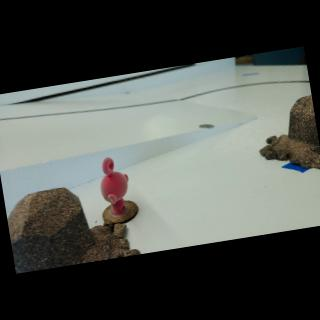teletubby: (101, 158, 128, 215)
